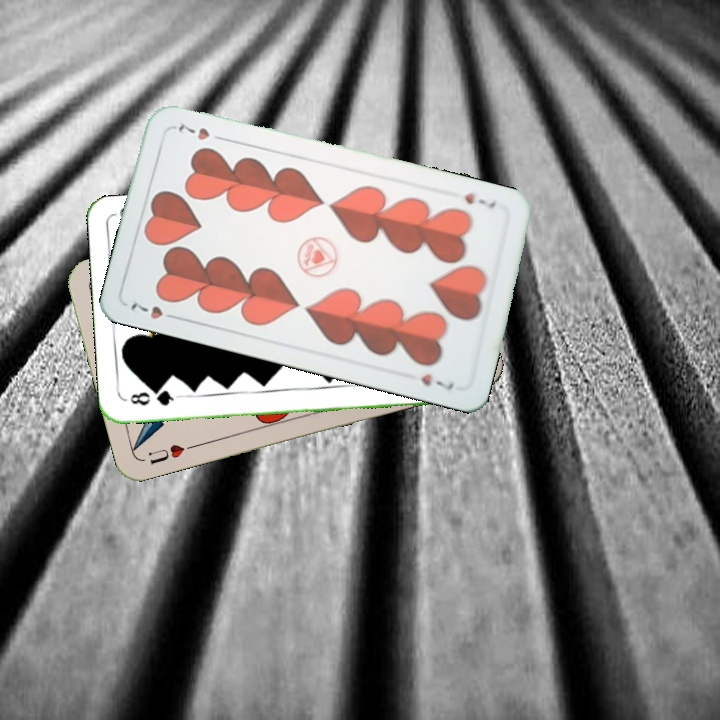G8: (126, 386, 182, 408)
H7: (126, 298, 182, 322), (460, 188, 498, 212)
HU: (144, 440, 198, 467)
